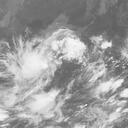cyclone: (18, 37, 86, 95)
